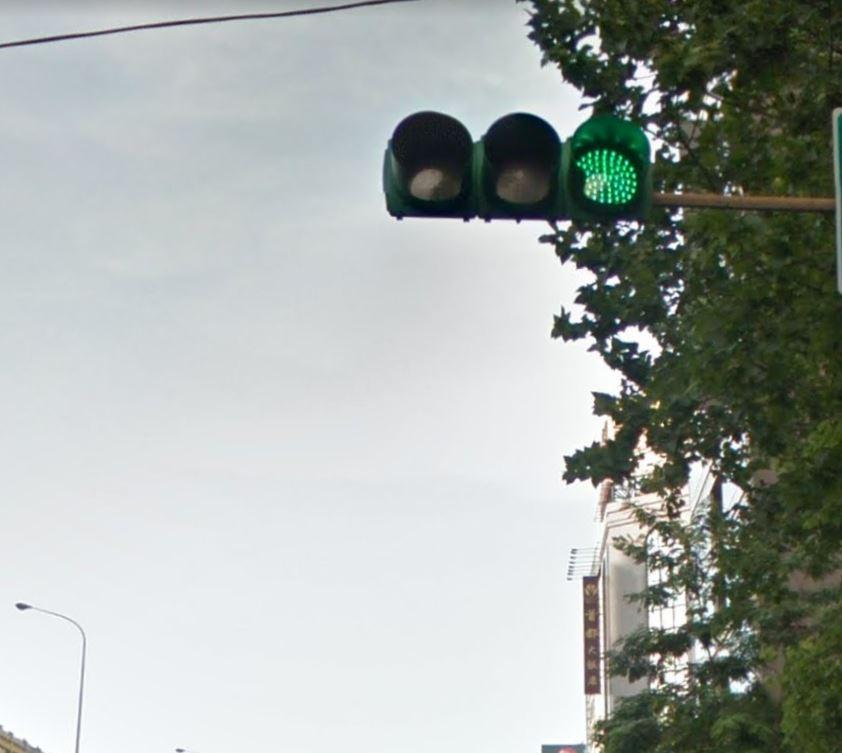green_traffic_light: (378, 107, 656, 225)
